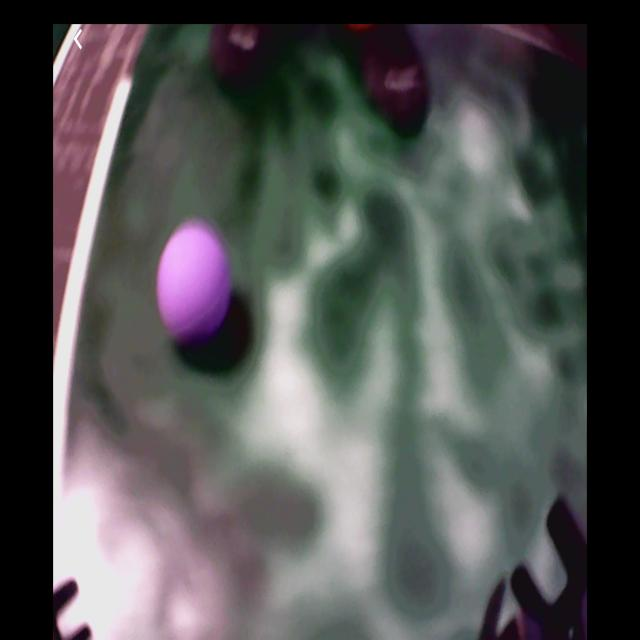ball: (159, 226, 235, 346)
